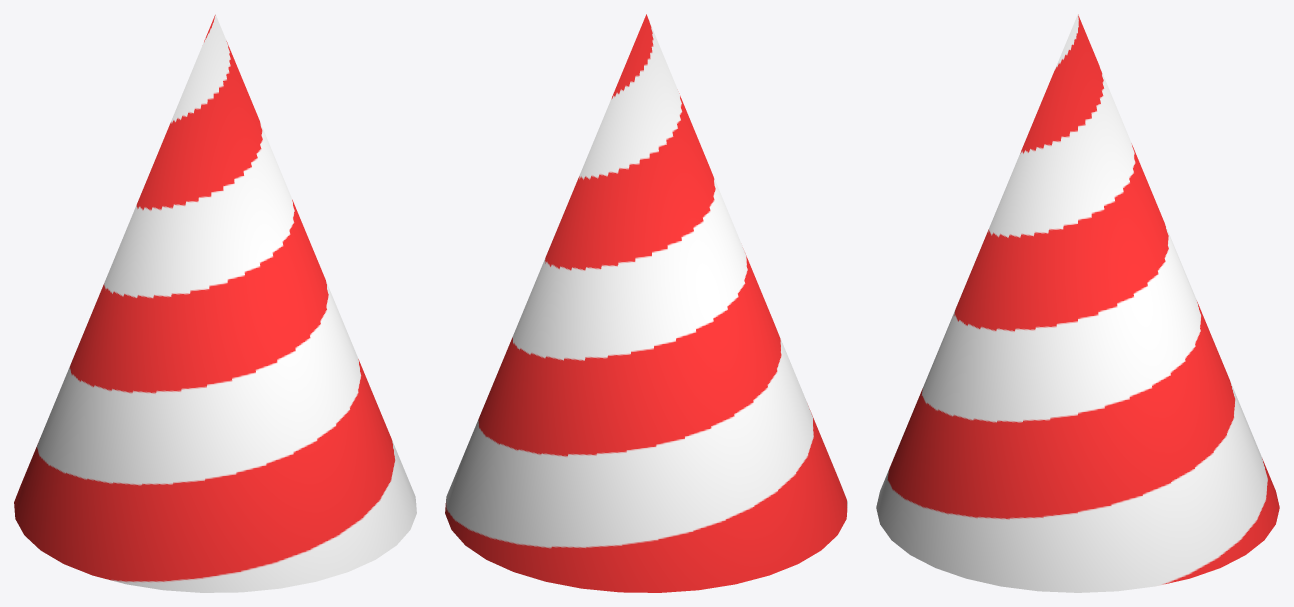
File: PartyHat.glb
The picture shows the model from 3 angles, left to right: view 1: azimuth 30°, elevation 25°; view 2: azimuth 150°, elevation 25°; view 3: azimuth 270°, elevation 25°; orthographic projection.
Parts seen in each view (by area): view 1: Cylinder; view 2: Cylinder; view 3: Cylinder.
Boxes of the visible parts, <box> form: Cylinder: <box>14,14,416,592</box>; Cylinder: <box>445,14,847,592</box>; Cylinder: <box>876,14,1279,592</box>.
Size of the model in its own units: 2 by 2.7 by 2.
Materials: 1 (1 with a texture image).
